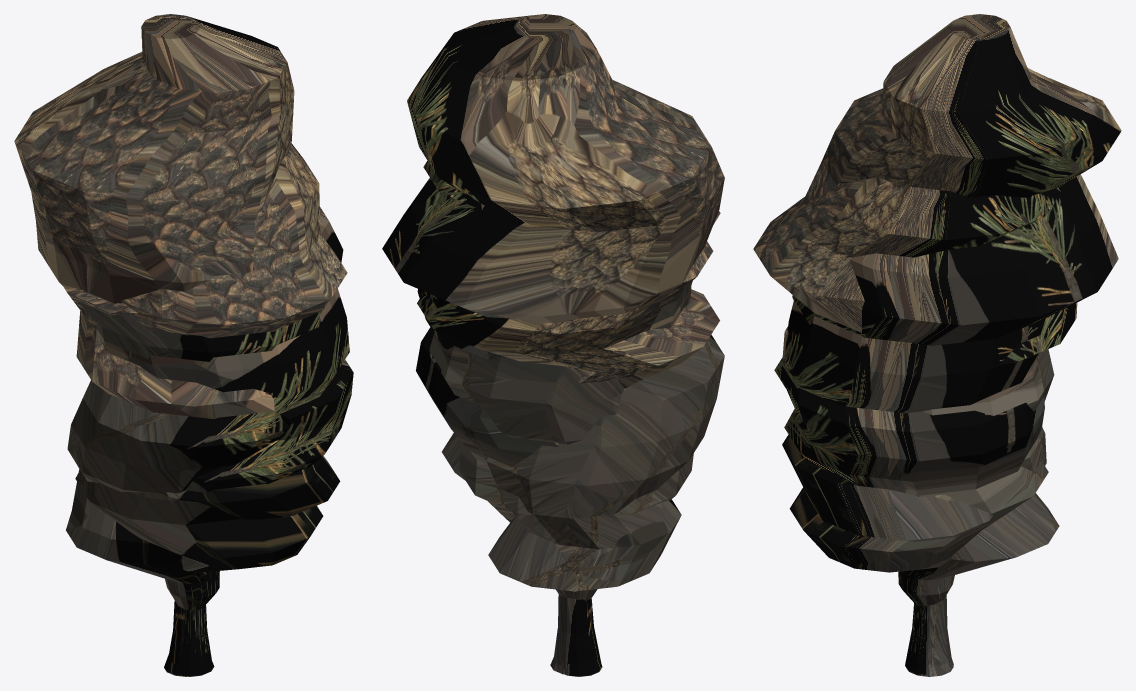
Rendered from pine_tree_01_lod3.glb.
3 views of the same model, side by side, from view 1: azimuth 30°, elevation 25°; view 2: azimuth 150°, elevation 25°; view 3: azimuth 270°, elevation 25° (orthographic). The views are drawn at different scales.
Parts seen in each view (by area): view 1: pine_tree_01_a_LOD0_LOD3, pine_tree_01_c_LOD0_LOD3, pine_tree_01_b_LOD0_LOD3; view 2: pine_tree_01_a_LOD0_LOD3, pine_tree_01_c_LOD0_LOD3, pine_tree_01_b_LOD0_LOD3; view 3: pine_tree_01_a_LOD0_LOD3, pine_tree_01_c_LOD0_LOD3, pine_tree_01_b_LOD0_LOD3.
Part boxes in pixels (x1,y1,x2,y2): pine_tree_01_a_LOD0_LOD3: [14, 14, 343, 676]; pine_tree_01_c_LOD0_LOD3: [66, 143, 349, 676]; pine_tree_01_b_LOD0_LOD3: [62, 284, 353, 671]; pine_tree_01_a_LOD0_LOD3: [382, 14, 724, 671]; pine_tree_01_c_LOD0_LOD3: [417, 161, 724, 676]; pine_tree_01_b_LOD0_LOD3: [416, 241, 719, 674]; pine_tree_01_a_LOD0_LOD3: [782, 14, 1121, 670]; pine_tree_01_c_LOD0_LOD3: [753, 177, 1060, 665]; pine_tree_01_b_LOD0_LOD3: [781, 303, 1077, 676].
Bounding box in the file's own units: 9.67 × 20.39 × 10.6.
1 material, 1 textured.
